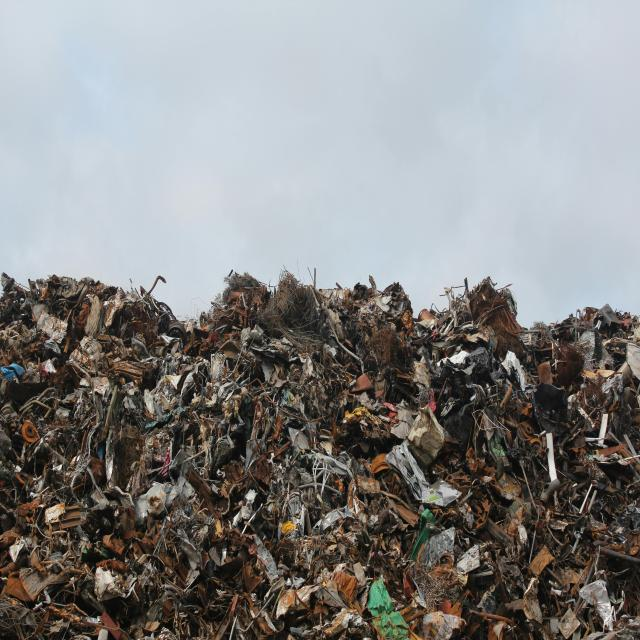metal: (219, 362, 352, 470), (393, 376, 464, 482), (91, 302, 161, 370)
